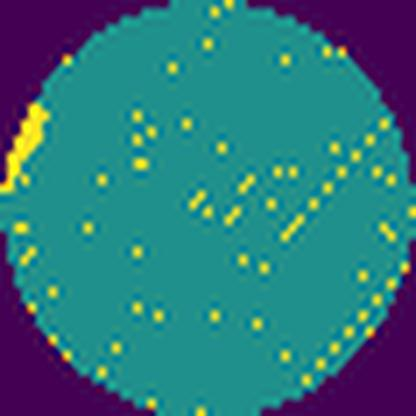Edge-Loc: (0, 95, 51, 193)
